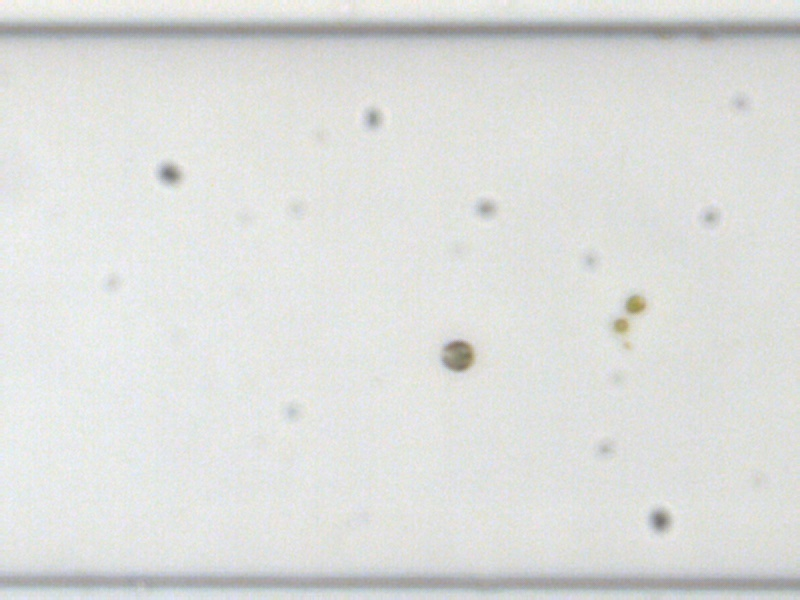Chlorella: (623, 293, 645, 311), (614, 314, 632, 331)
Effrenium: (440, 339, 476, 374)
